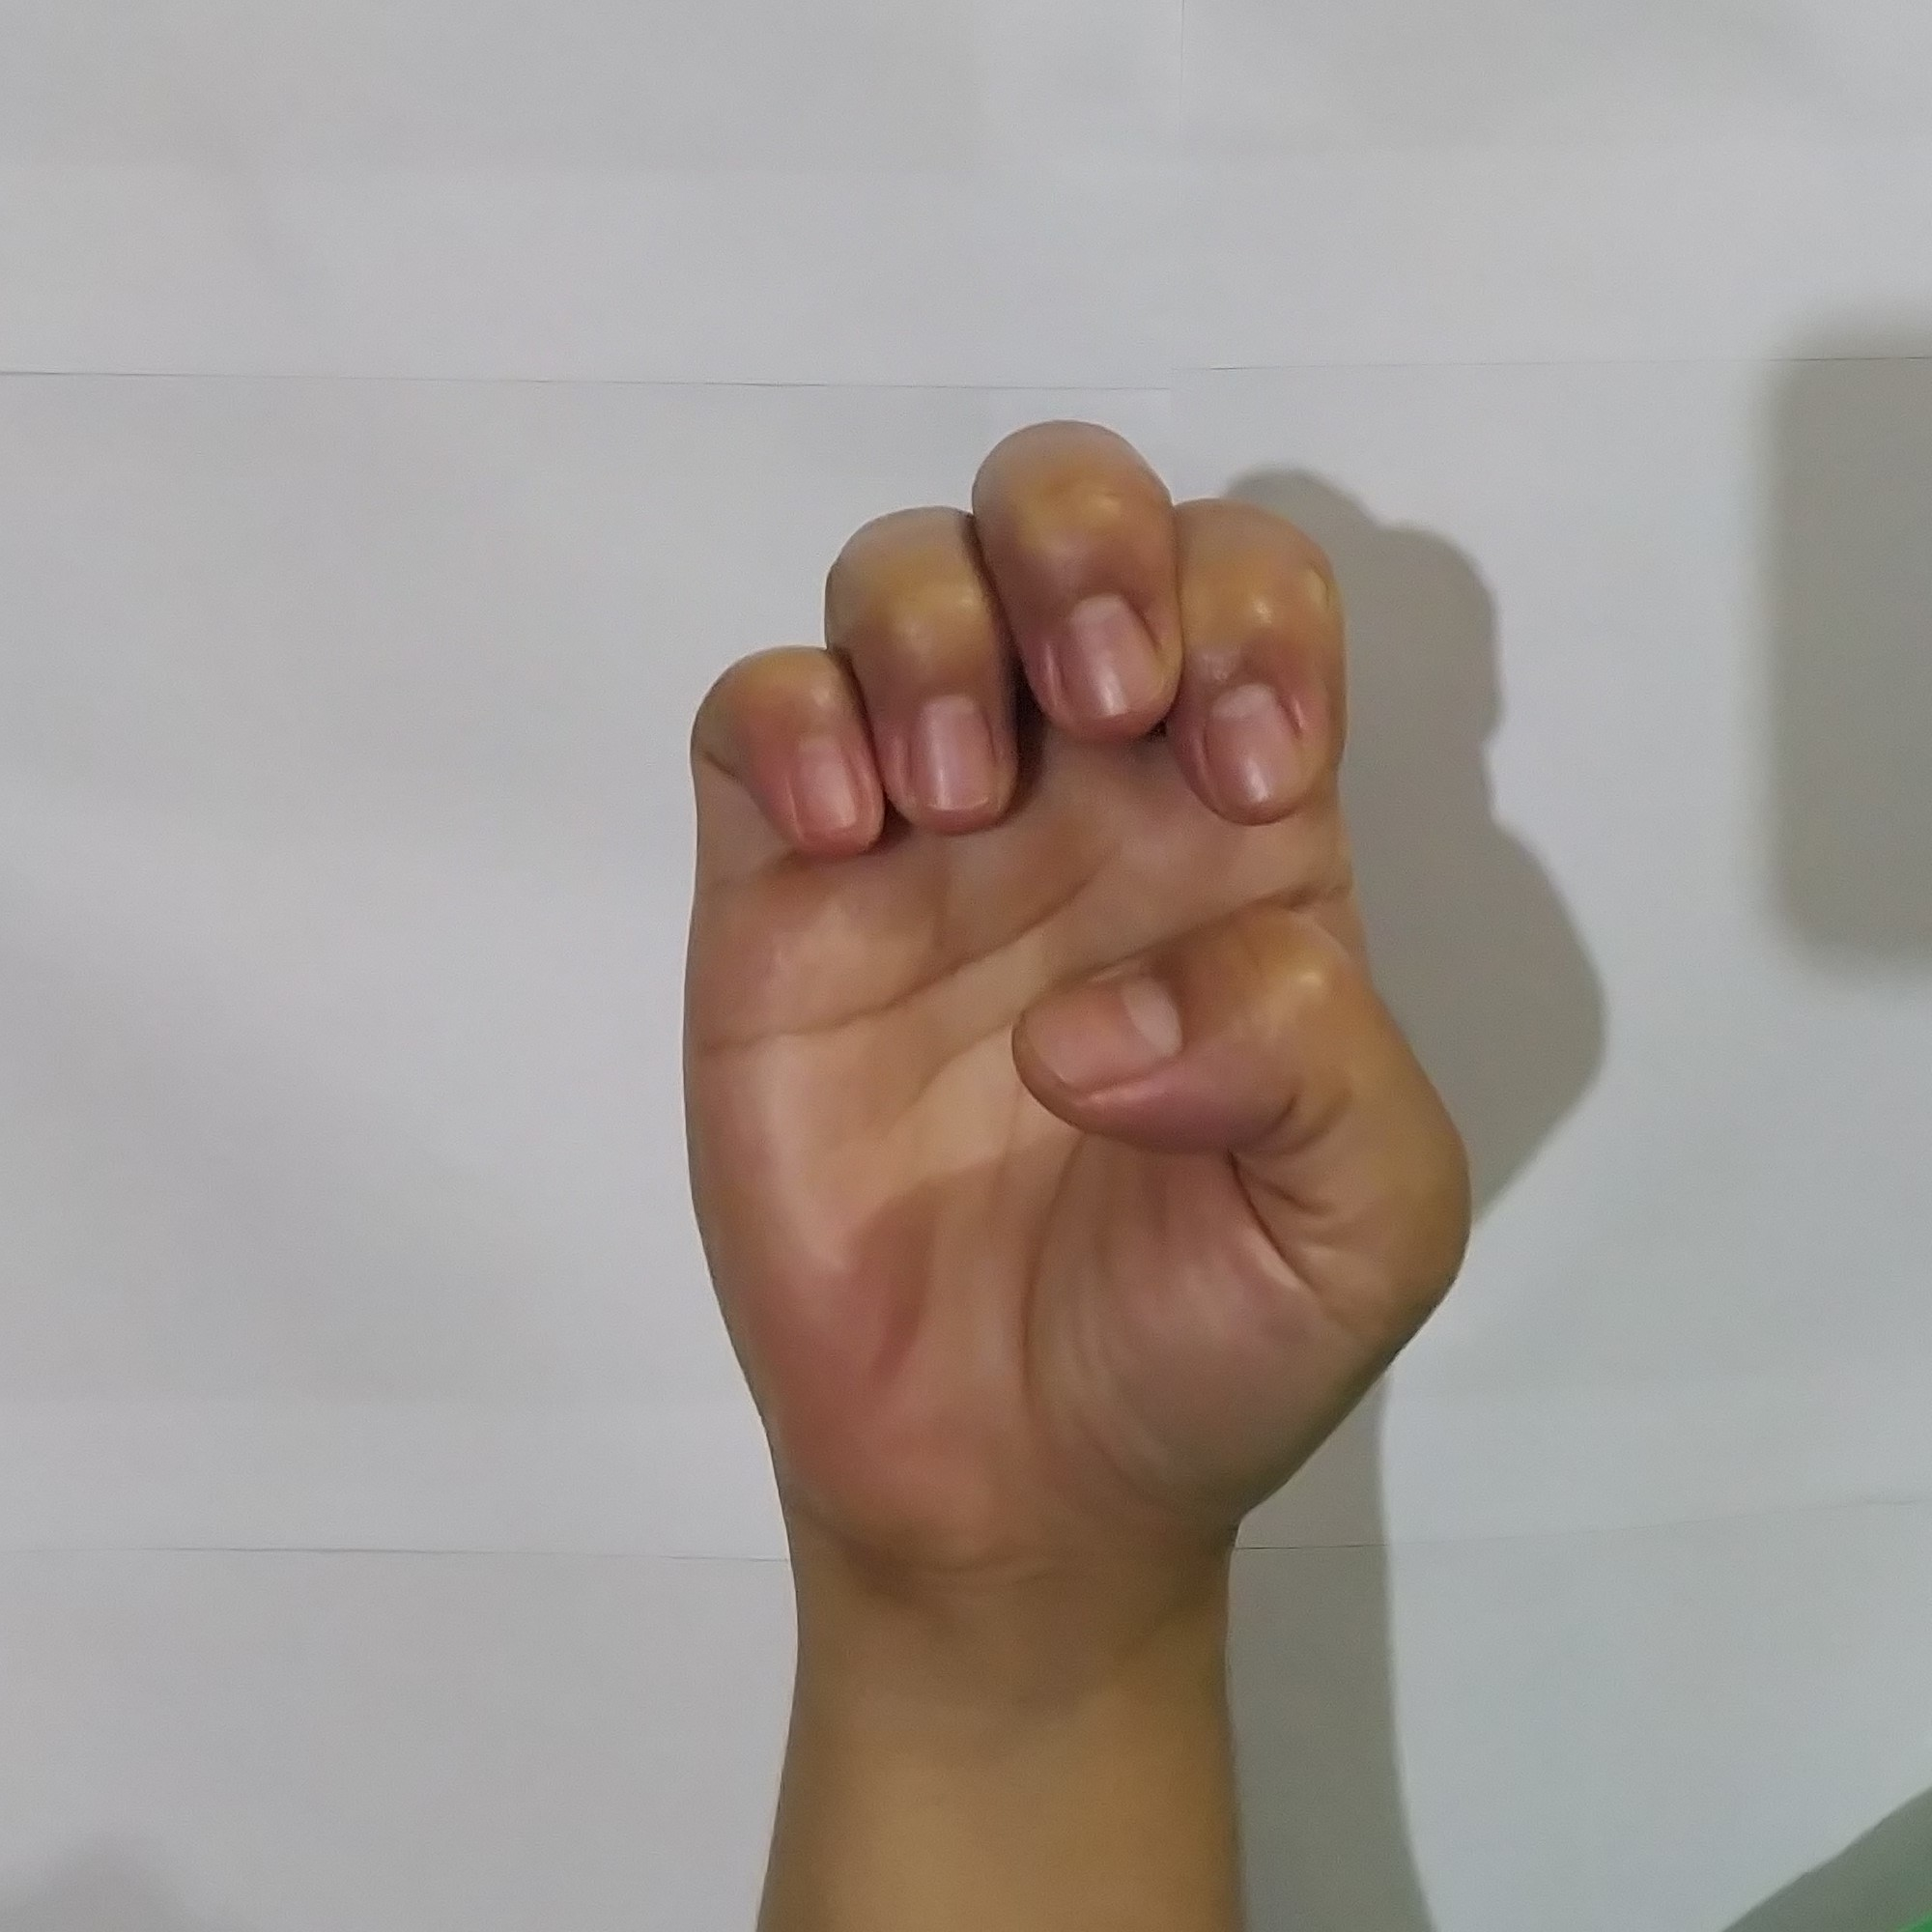E: (658, 402, 1497, 1530)
